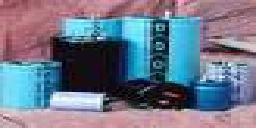Electrolytic Capacitor: (123, 8, 202, 78), (1, 55, 67, 120), (50, 35, 129, 86), (47, 88, 119, 122), (56, 12, 124, 41), (145, 81, 188, 113), (193, 81, 232, 115), (232, 59, 256, 105)
